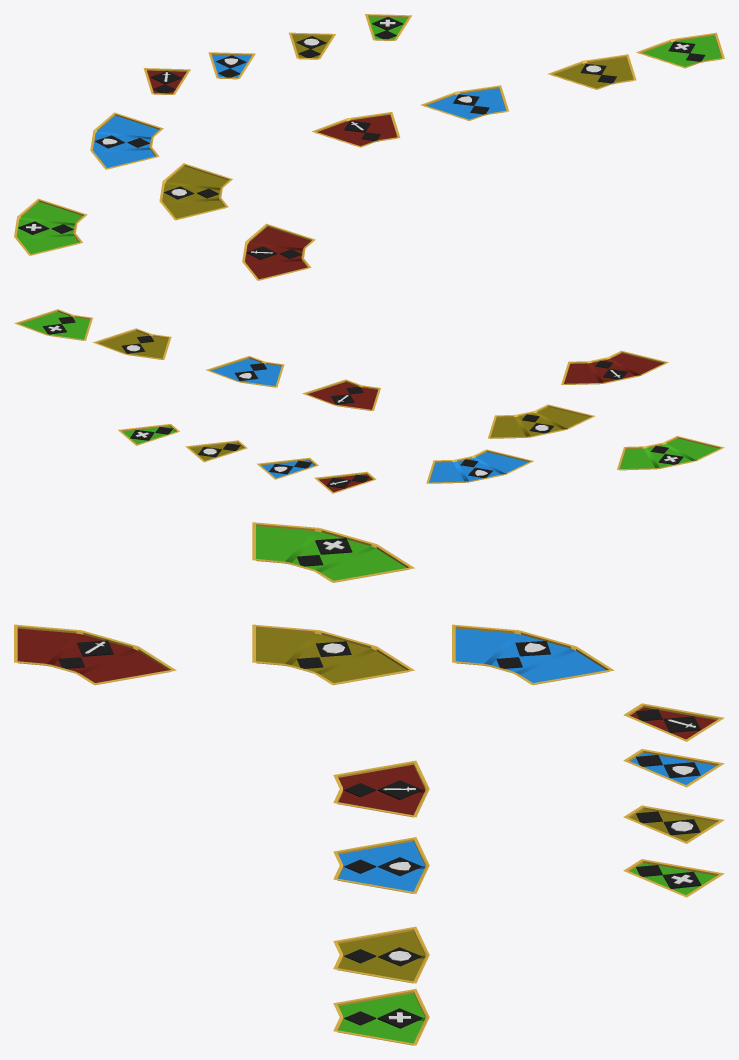
File: RouletteSectors.fbx
The picture shows the model from 3 angles, top to bottom: view 1: azimuth 30°, elevation 25°; view 2: azimuth 150°, elevation 25°; view 3: azimuth 270°, elevation 25°; orthographic projection. The views are drawn at different scales.
Parts seen in each view (by area): view 1: ShieldSector3, AttackSector3, HealthSector3, MoneySector3, ShieldSector2, MoneySector2, AttackSector2, HealthSector2, MoneySector1, ShieldSector1, HealthSector1, AttackSector1; view 2: HealthSector3, AttackSector3, ShieldSector3, MoneySector3, AttackSector2, MoneySector2, ShieldSector2, HealthSector2, AttackSector1, HealthSector1, MoneySector1, ShieldSector1; view 3: HealthSector3, MoneySector3, AttackSector3, ShieldSector3, AttackSector2, HealthSector2, MoneySector2, ShieldSector2, HealthSector1, MoneySector1, ShieldSector1, AttackSector1.
Boxes of the visible parts, x1,y1,x2,y2 form: ShieldSector3: [90, 112, 163, 169]; AttackSector3: [242, 223, 315, 280]; HealthSector3: [14, 198, 87, 255]; MoneySector3: [159, 163, 232, 220]; ShieldSector2: [420, 85, 508, 120]; MoneySector2: [548, 54, 636, 89]; AttackSector2: [312, 112, 400, 147]; HealthSector2: [636, 32, 724, 68]; MoneySector1: [289, 32, 335, 59]; ShieldSector1: [208, 52, 255, 79]; HealthSector1: [365, 14, 412, 40]; AttackSector1: [143, 68, 190, 94]; HealthSector3: [617, 436, 724, 470]; AttackSector3: [561, 350, 668, 384]; ShieldSector3: [426, 449, 533, 483]; MoneySector3: [488, 404, 595, 438]; AttackSector2: [302, 379, 380, 410]; MoneySector2: [92, 328, 171, 359]; ShieldSector2: [206, 356, 284, 387]; HealthSector2: [14, 309, 92, 340]; AttackSector1: [314, 471, 376, 493]; HealthSector1: [118, 424, 179, 445]; MoneySector1: [185, 440, 247, 462]; ShieldSector1: [257, 457, 318, 479]; HealthSector3: [252, 522, 414, 582]; MoneySector3: [252, 624, 414, 685]; AttackSector3: [14, 624, 176, 685]; ShieldSector3: [452, 624, 614, 685]; AttackSector2: [333, 760, 429, 817]; HealthSector2: [333, 989, 429, 1045]; MoneySector2: [333, 926, 429, 983]; ShieldSector2: [333, 837, 429, 893]; HealthSector1: [623, 859, 724, 897]; MoneySector1: [623, 805, 724, 843]; ShieldSector1: [623, 749, 724, 787]; AttackSector1: [623, 703, 724, 741].
Size of the model in its own units: 14.04 by 0.0393 by 8.06.
